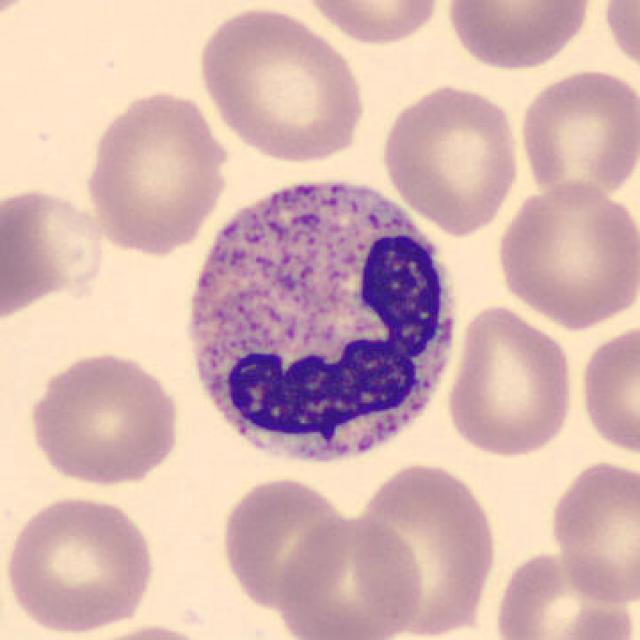Neutrophil: (171, 159, 469, 483)
RBC: (192, 5, 370, 164), (348, 457, 502, 638), (80, 86, 233, 258), (2, 490, 158, 637), (23, 348, 185, 488), (492, 178, 638, 332), (378, 80, 522, 234), (442, 301, 578, 462), (217, 471, 357, 614), (274, 510, 425, 638), (516, 64, 638, 206), (0, 181, 108, 324), (546, 455, 638, 608), (491, 548, 636, 640), (442, 0, 597, 72), (576, 318, 640, 460), (297, 0, 446, 48), (599, 0, 640, 81), (69, 620, 216, 640)
